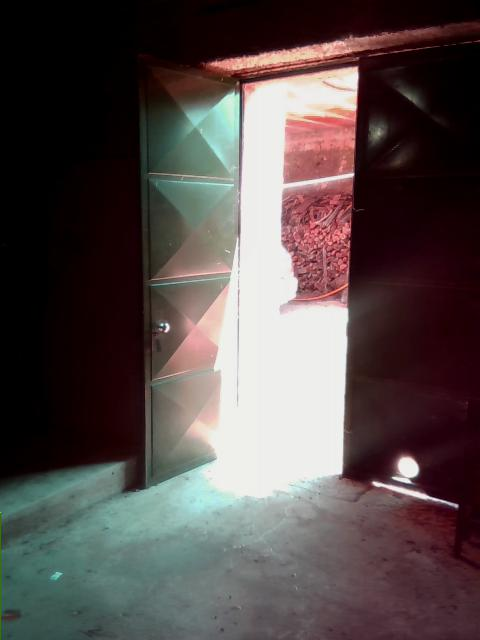open_door: (220, 57, 364, 476)
